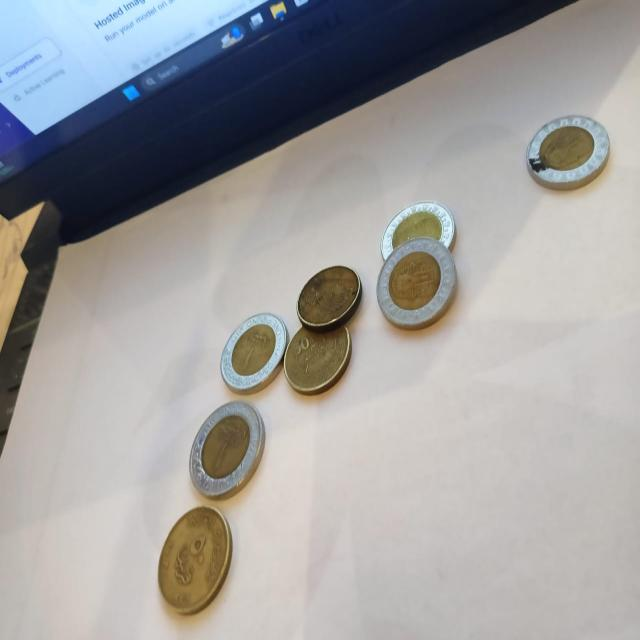Half Pound: (154, 496, 234, 619), (278, 316, 352, 403), (295, 253, 362, 338)
One Pound: (516, 105, 616, 193), (378, 238, 465, 336), (187, 395, 266, 502), (367, 186, 460, 264), (214, 307, 290, 393)
